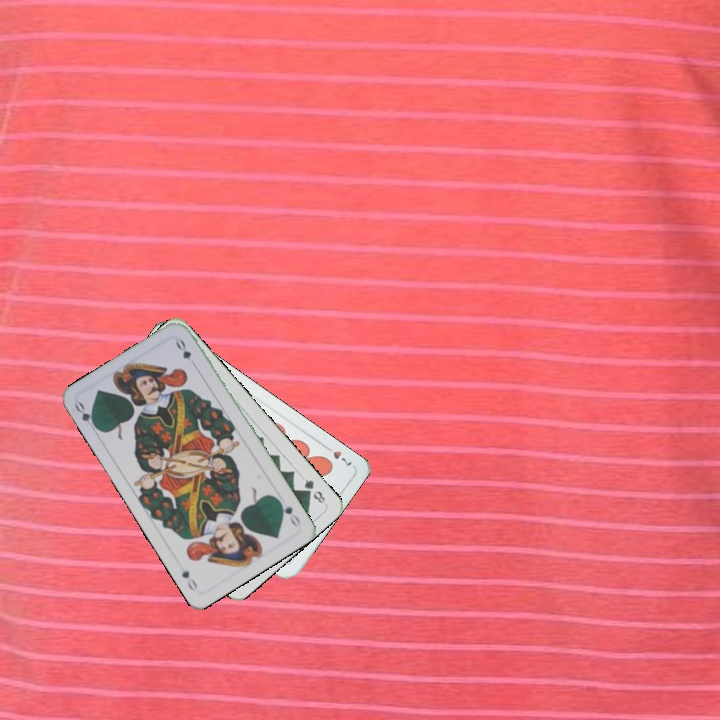G8: (300, 475, 328, 506)
GO: (70, 397, 101, 433), (273, 495, 303, 529)
H7: (320, 441, 355, 468)
